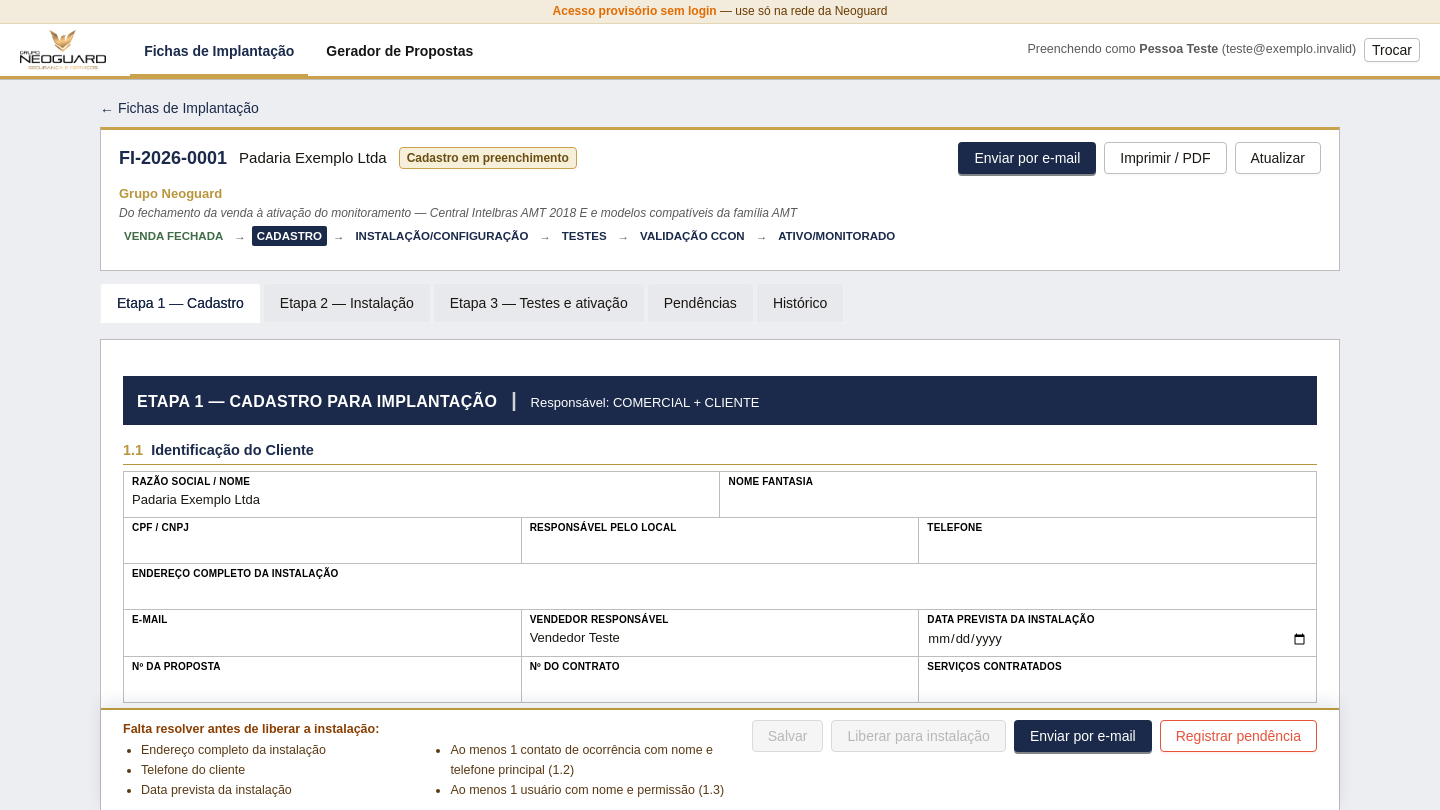
it: Editor da ficha em outros status › registrar pendência cadastral muda o status e "Retomar" volta ao cadastro
Expected: the element that starts with "Etapa 1 — Cadastro" is shown, [100,283,844,323]
Click the button "Registrar pendência": (1238, 735) [1160,719,1317,751]
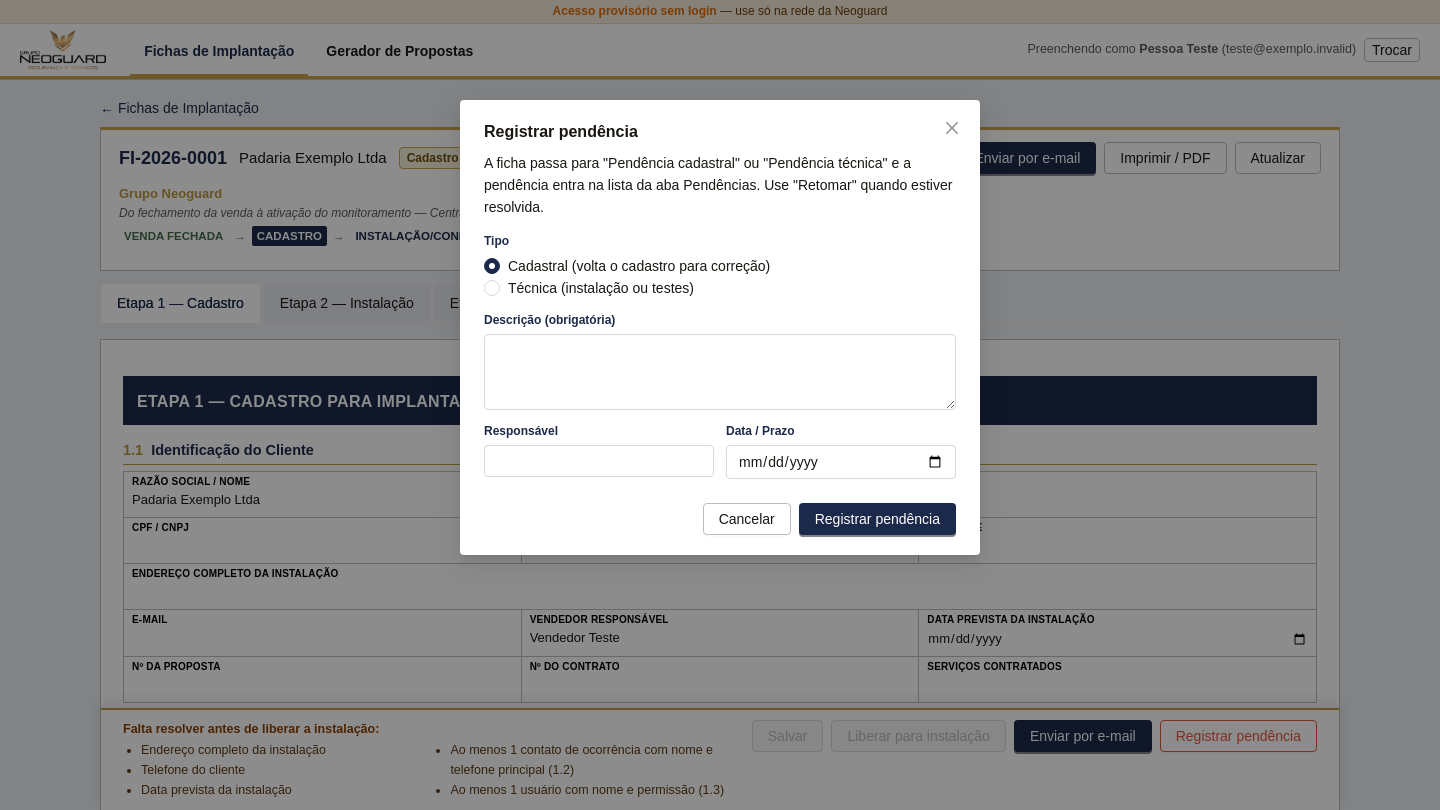
// descrição obrigatória
Click the button "Registrar pendência": (877, 518) [799,502,956,534]
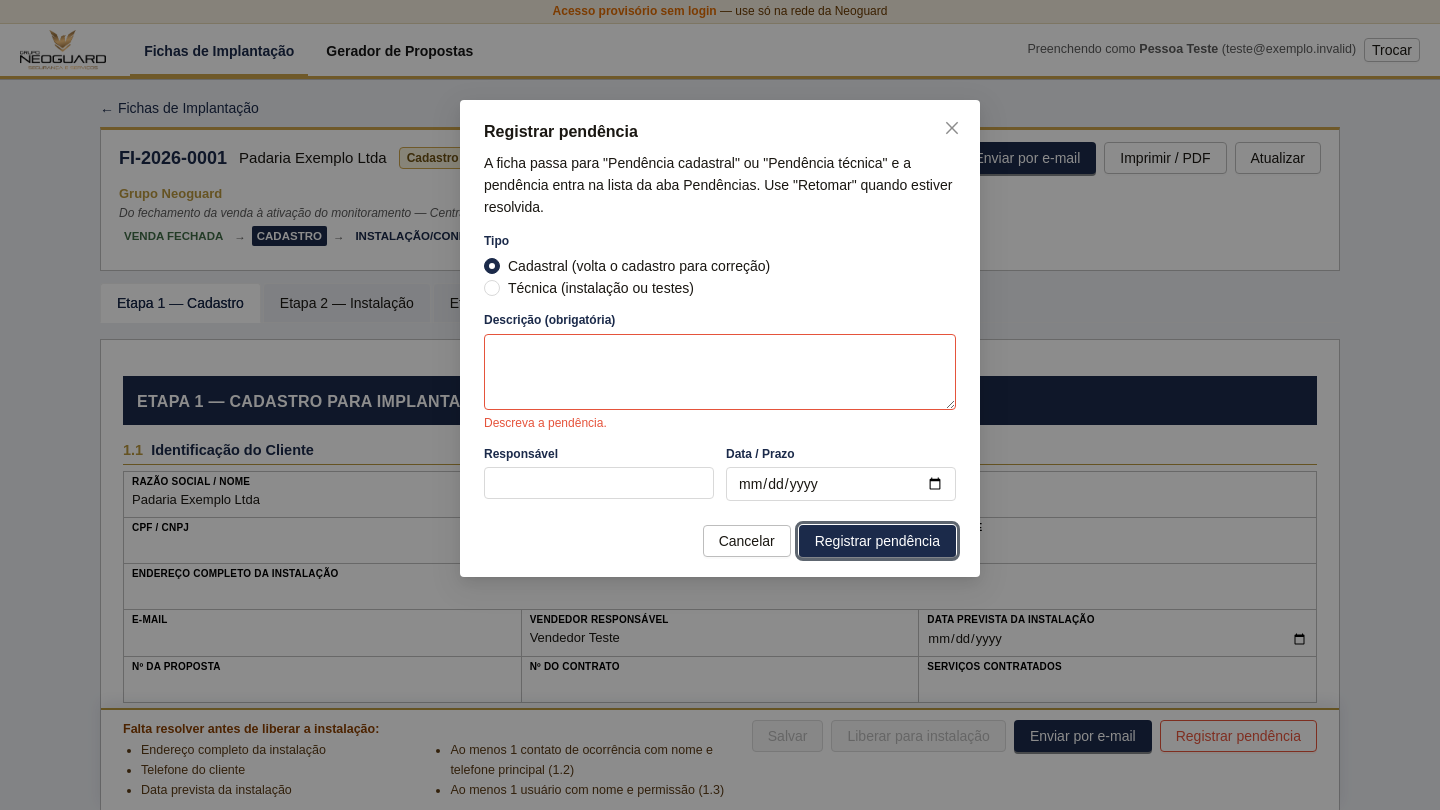
Expected: the text "Descreva a pendência." is shown, [484,416,607,430]
In the text box labelled "Descrição (obrigatória)": (720, 372) [484,334,956,410], type "Falta o CNPJ do cliente"
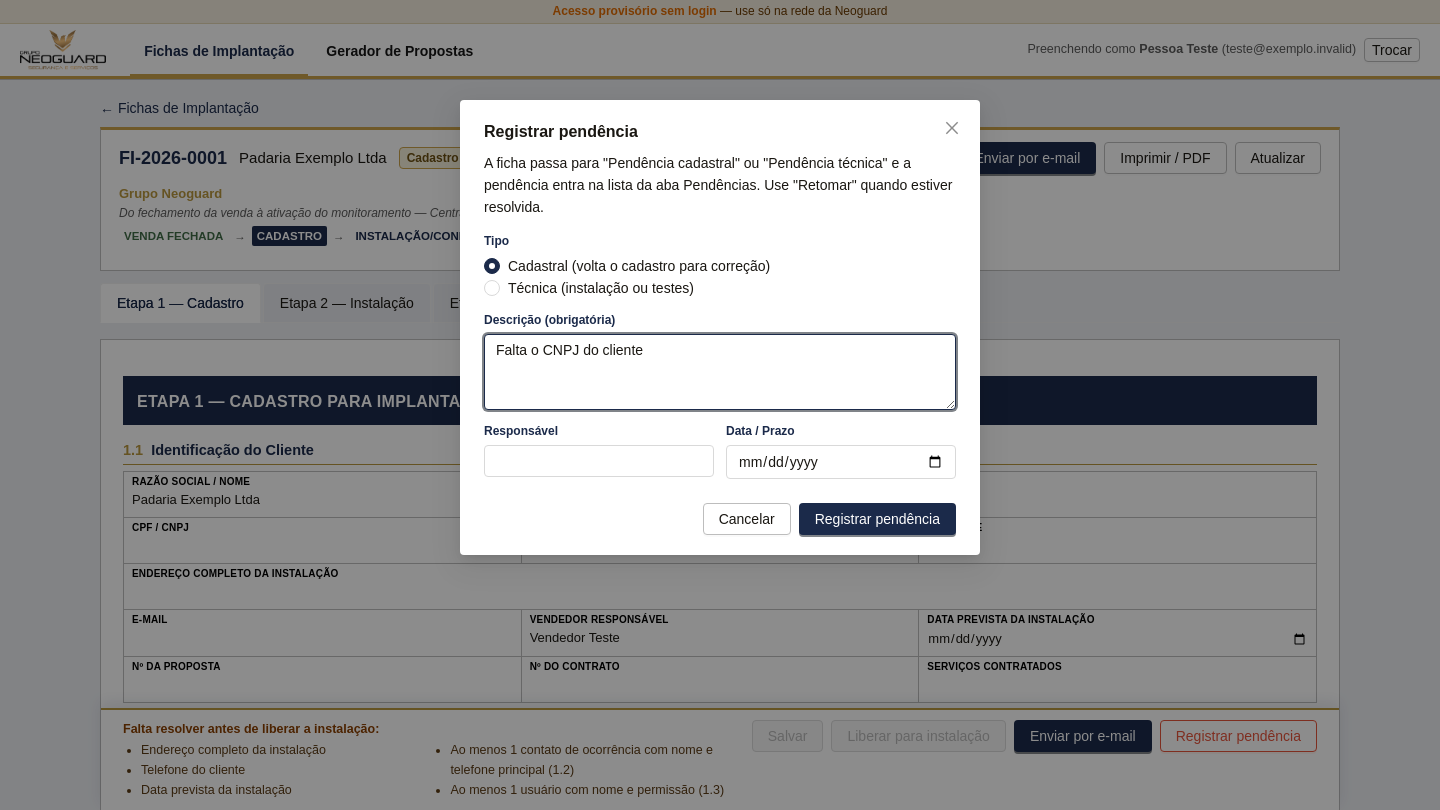
Click the button "Registrar pendência": (877, 518) [799,502,956,534]
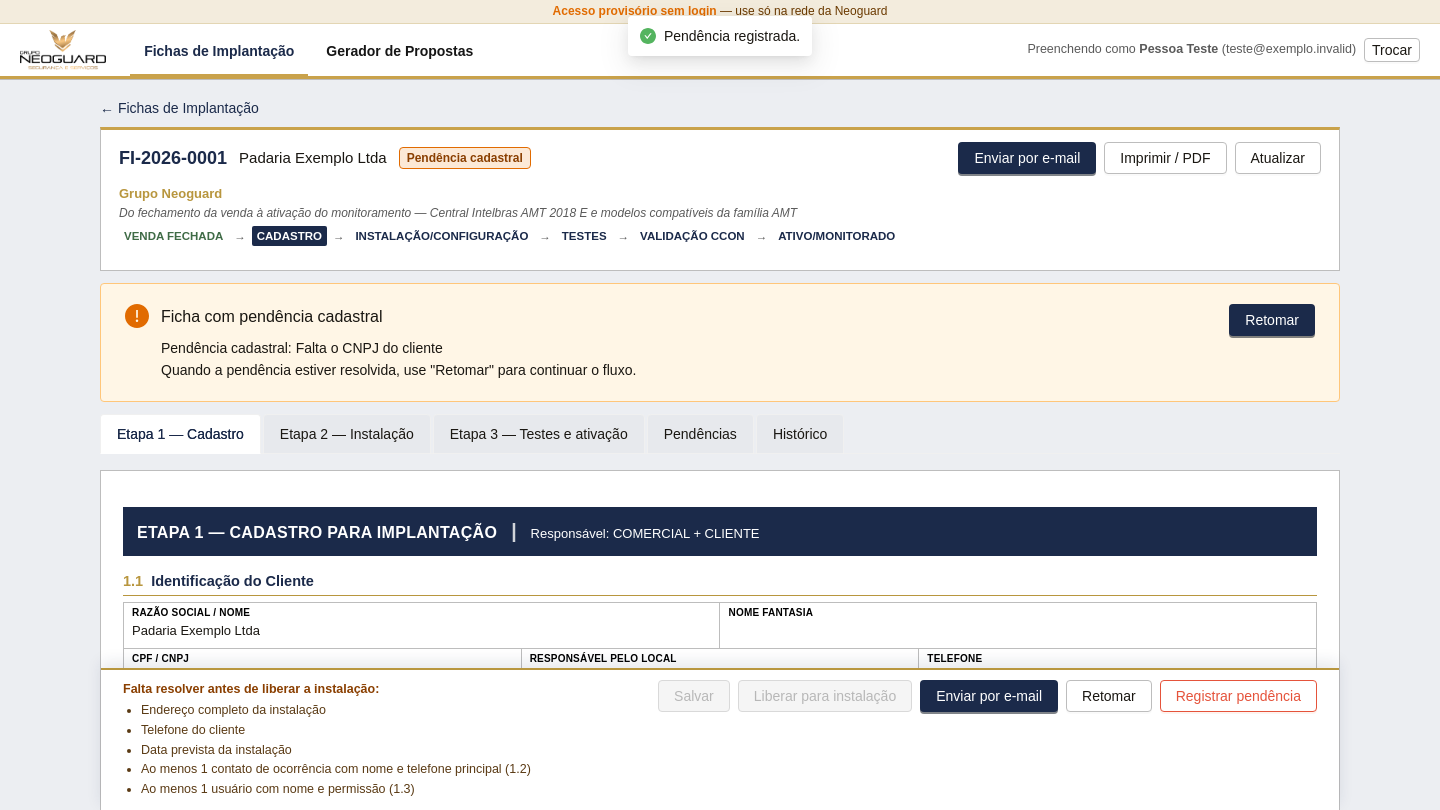
Expected: the text "Ficha com pendência cadastral" is shown, [161,308,382,325]
Expected: the text "Pendência cadastral" is shown, [399,147,531,169]
Expected: the text "Pendência cadastral: Falta o CNPJ do cliente" is shown, [161,340,443,356]
// a pendência entrou na lista da aba Pendências
Click the tab "Pendências": (700, 434) [664,423,737,445]
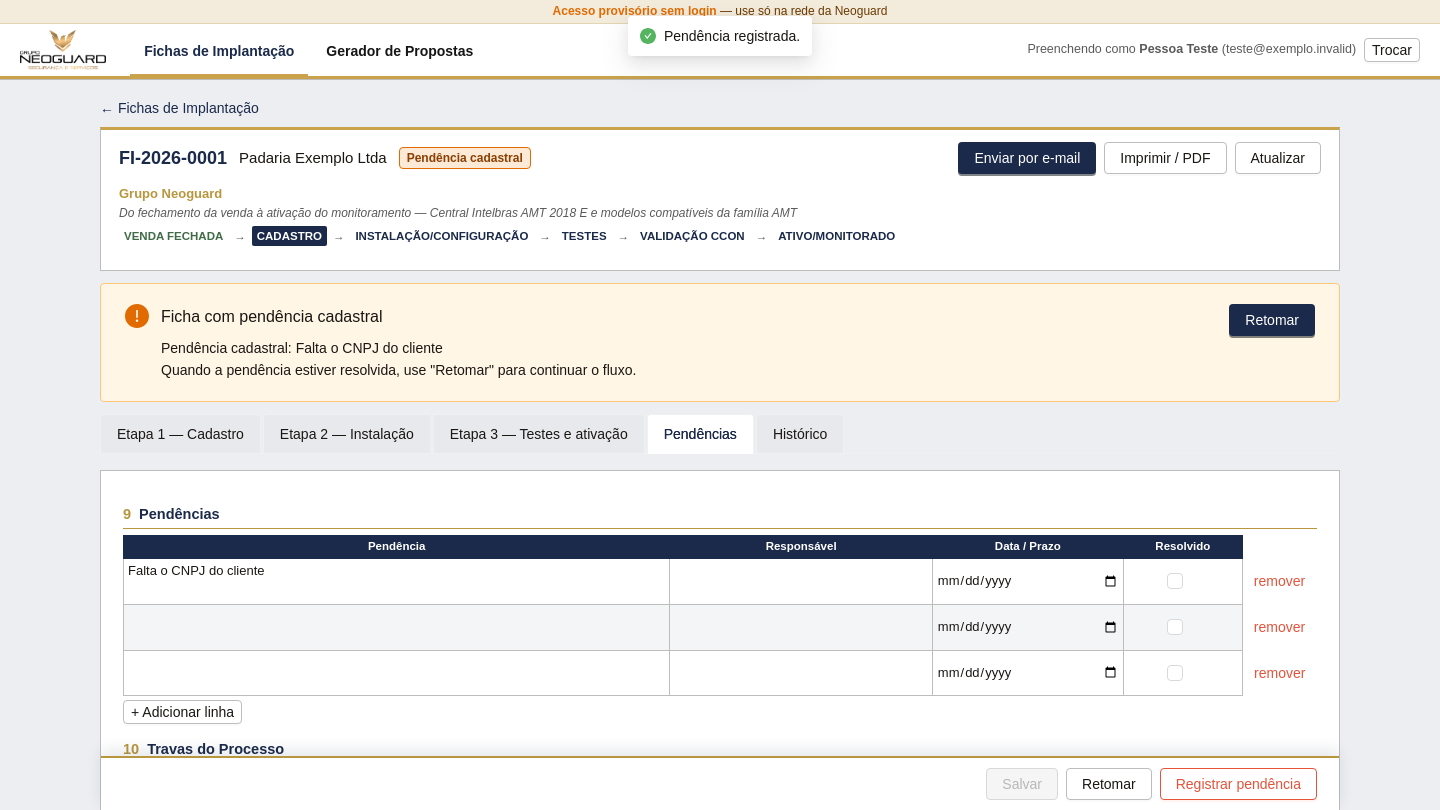
Expected: the text box showing "Falta o CNPJ do cliente" is shown, [128,560,665,603]
Click the button "Retomar" in the row of "Ficha com pendência cadastral": (1272, 320) [1229,304,1315,336]
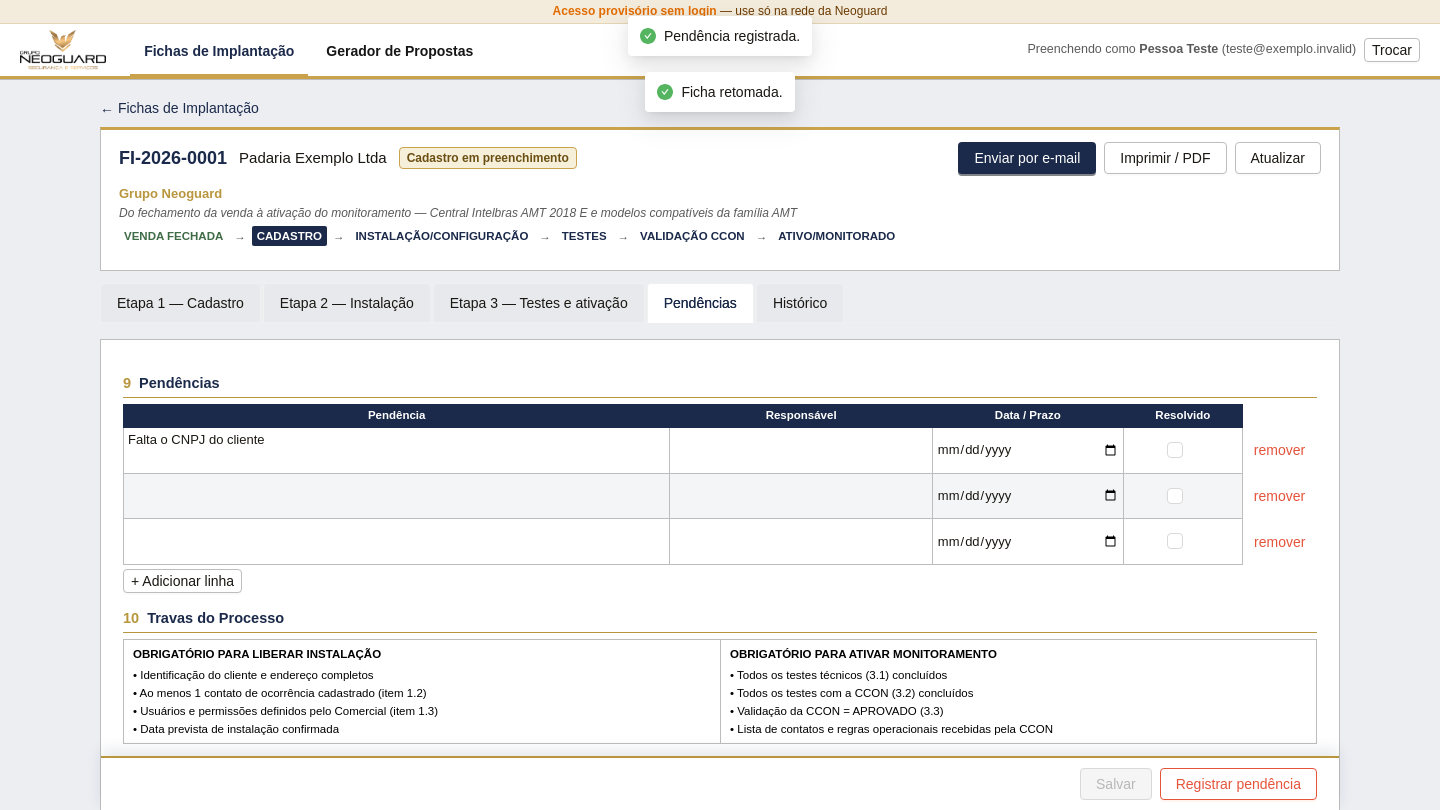
Expected: the text "Ficha com pendência cadastral" is gone
Expected: the text "Cadastro em preenchimento" is shown, [399,147,577,169]
